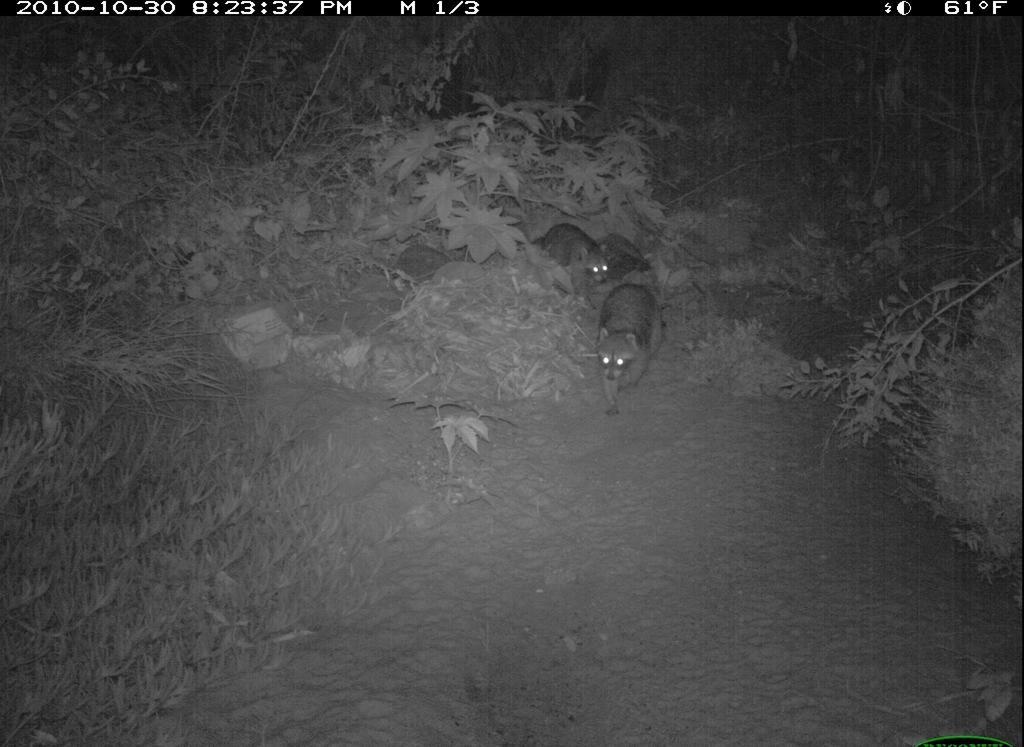raccoon: (592, 281, 666, 420), (529, 216, 619, 296)
